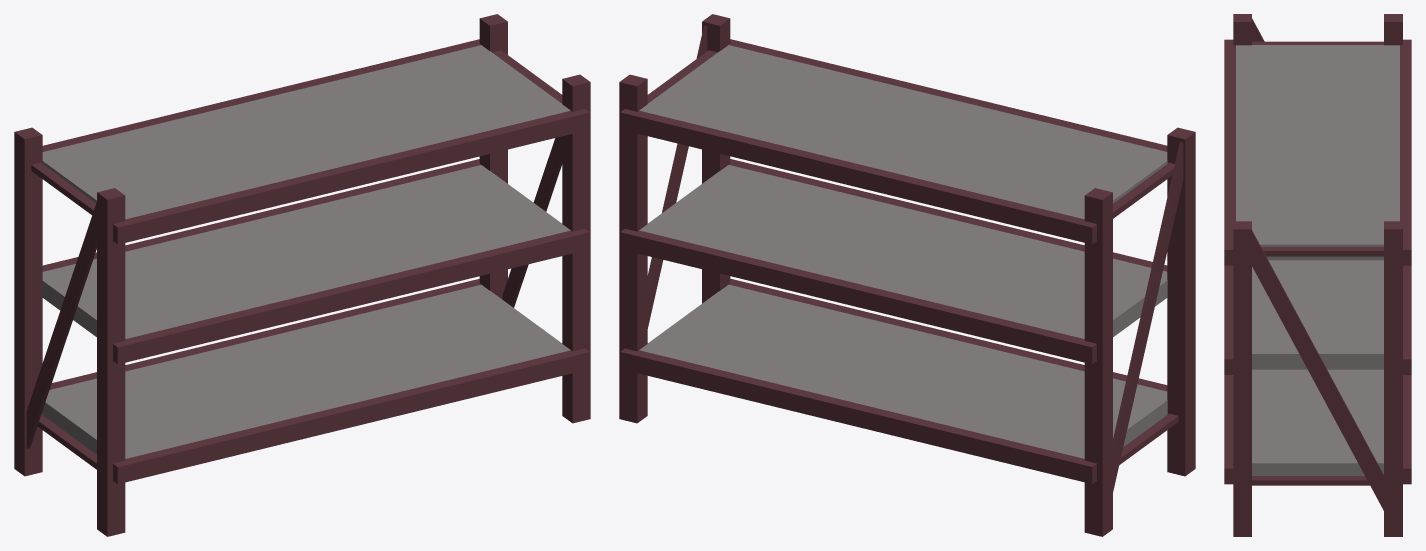
The model's file is storage-small-b.fbx.
3 views of the same model, side by side, from view 1: azimuth 30°, elevation 25°; view 2: azimuth 150°, elevation 25°; view 3: azimuth 270°, elevation 25° (orthographic). The views are drawn at different scales.
Visible parts, largest first — view 1: storage-small-b; view 2: storage-small-b; view 3: storage-small-b.
Part boxes in pixels (x1,y1,x2,y2): storage-small-b: [14, 14, 590, 536]; storage-small-b: [619, 14, 1195, 536]; storage-small-b: [1224, 14, 1411, 536].
Size of the model in its own units: 1.5 by 1 by 0.552.
